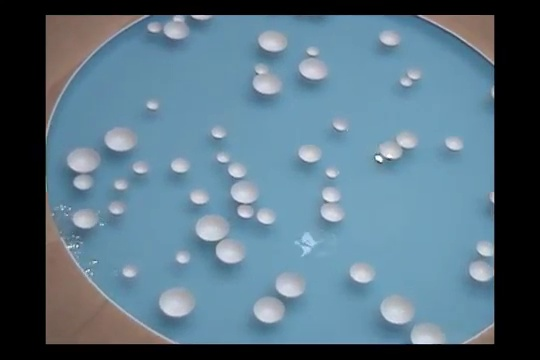bowl: (158, 286, 197, 318), (379, 293, 415, 325), (252, 295, 288, 325), (195, 213, 231, 242), (66, 147, 102, 174), (215, 237, 248, 266), (104, 126, 139, 153), (409, 322, 446, 346), (275, 270, 307, 297), (468, 256, 495, 284), (257, 30, 289, 53), (231, 179, 260, 204), (297, 59, 328, 81), (252, 74, 283, 96), (72, 207, 101, 230), (348, 261, 377, 284), (163, 20, 192, 41), (379, 140, 405, 163), (297, 143, 324, 164), (320, 202, 346, 223), (379, 28, 402, 47), (395, 131, 418, 150), (73, 173, 96, 192), (190, 187, 212, 206), (236, 202, 257, 220), (330, 116, 352, 133), (170, 157, 191, 174), (322, 186, 343, 203), (228, 161, 248, 178), (257, 208, 277, 225), (477, 239, 494, 258), (108, 200, 128, 216), (121, 263, 139, 280), (210, 125, 229, 140), (133, 160, 150, 176), (446, 136, 464, 151), (191, 13, 215, 23), (175, 250, 191, 265), (407, 67, 423, 81), (144, 99, 161, 112), (253, 62, 270, 75), (399, 76, 416, 89), (113, 178, 130, 191), (216, 150, 232, 163), (147, 21, 164, 33), (326, 166, 341, 179), (305, 45, 321, 56), (172, 13, 188, 23), (489, 190, 495, 203), (491, 85, 494, 98)
